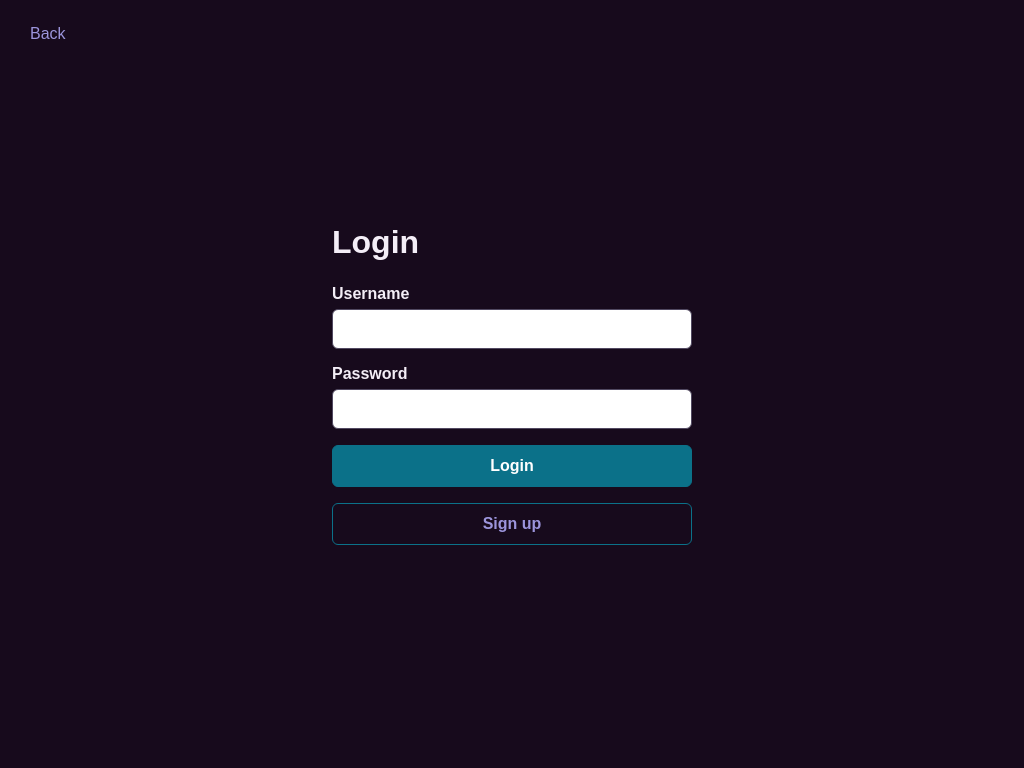
Scenario: Login page › shows an error when login fails
Step 1. Type "alice" into the field labelled "Username" → (512, 328), box [332,308,692,348]
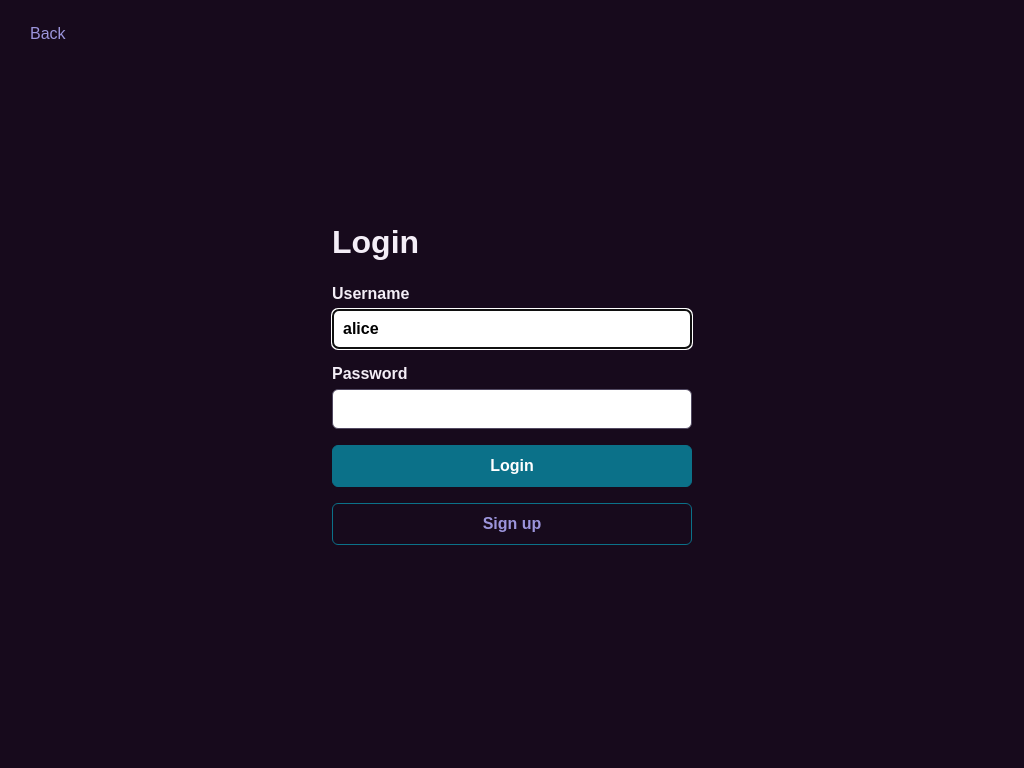
Step 2. Type "wrongpass" into the password field labelled "Password" → (512, 408), box [332,388,692,428]
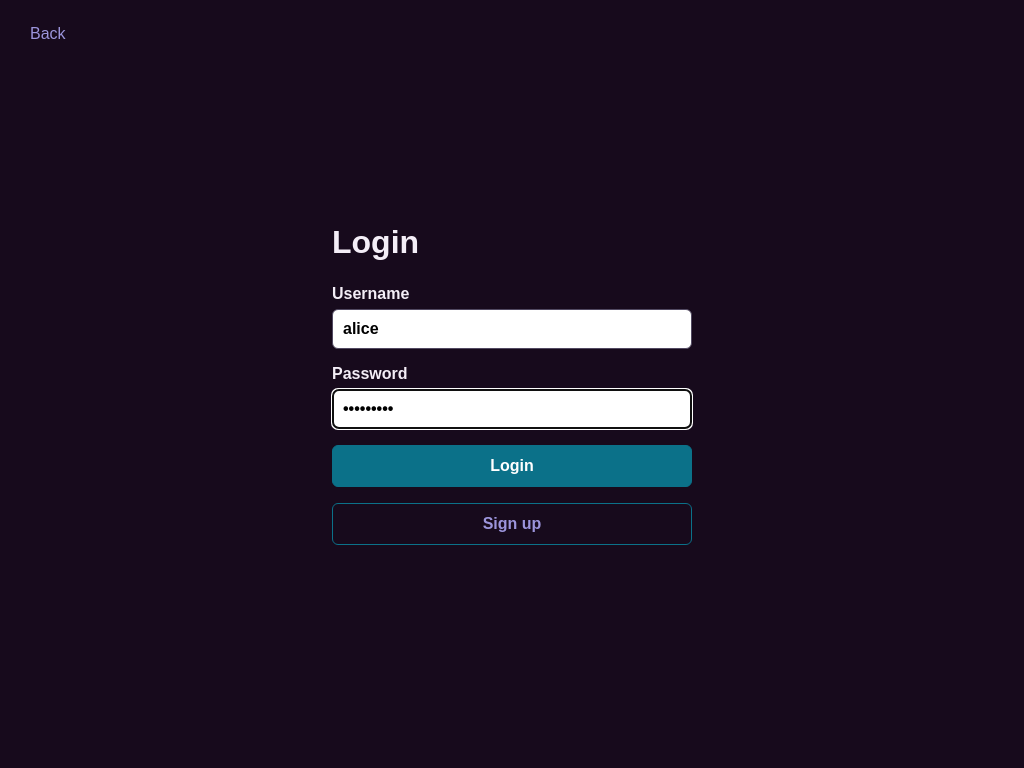
Step 3. Click the button "Login" → click(512, 466), box [332,444,692,486]
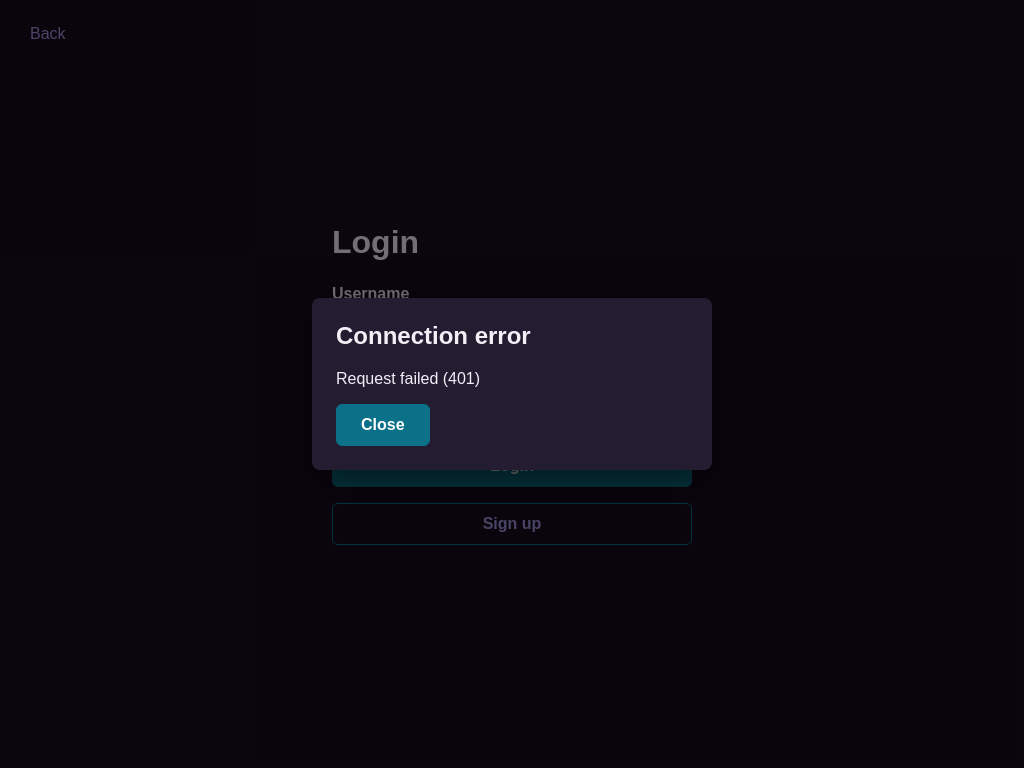
Check: the dialog shows "Request failed (401)", box [336,370,480,387]
